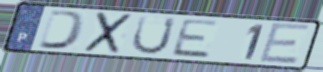1: (244, 23, 265, 61)
D: (35, 8, 89, 51)
E: (256, 21, 313, 65), (169, 18, 223, 60)
U: (129, 14, 179, 56)
X: (81, 11, 136, 55)
